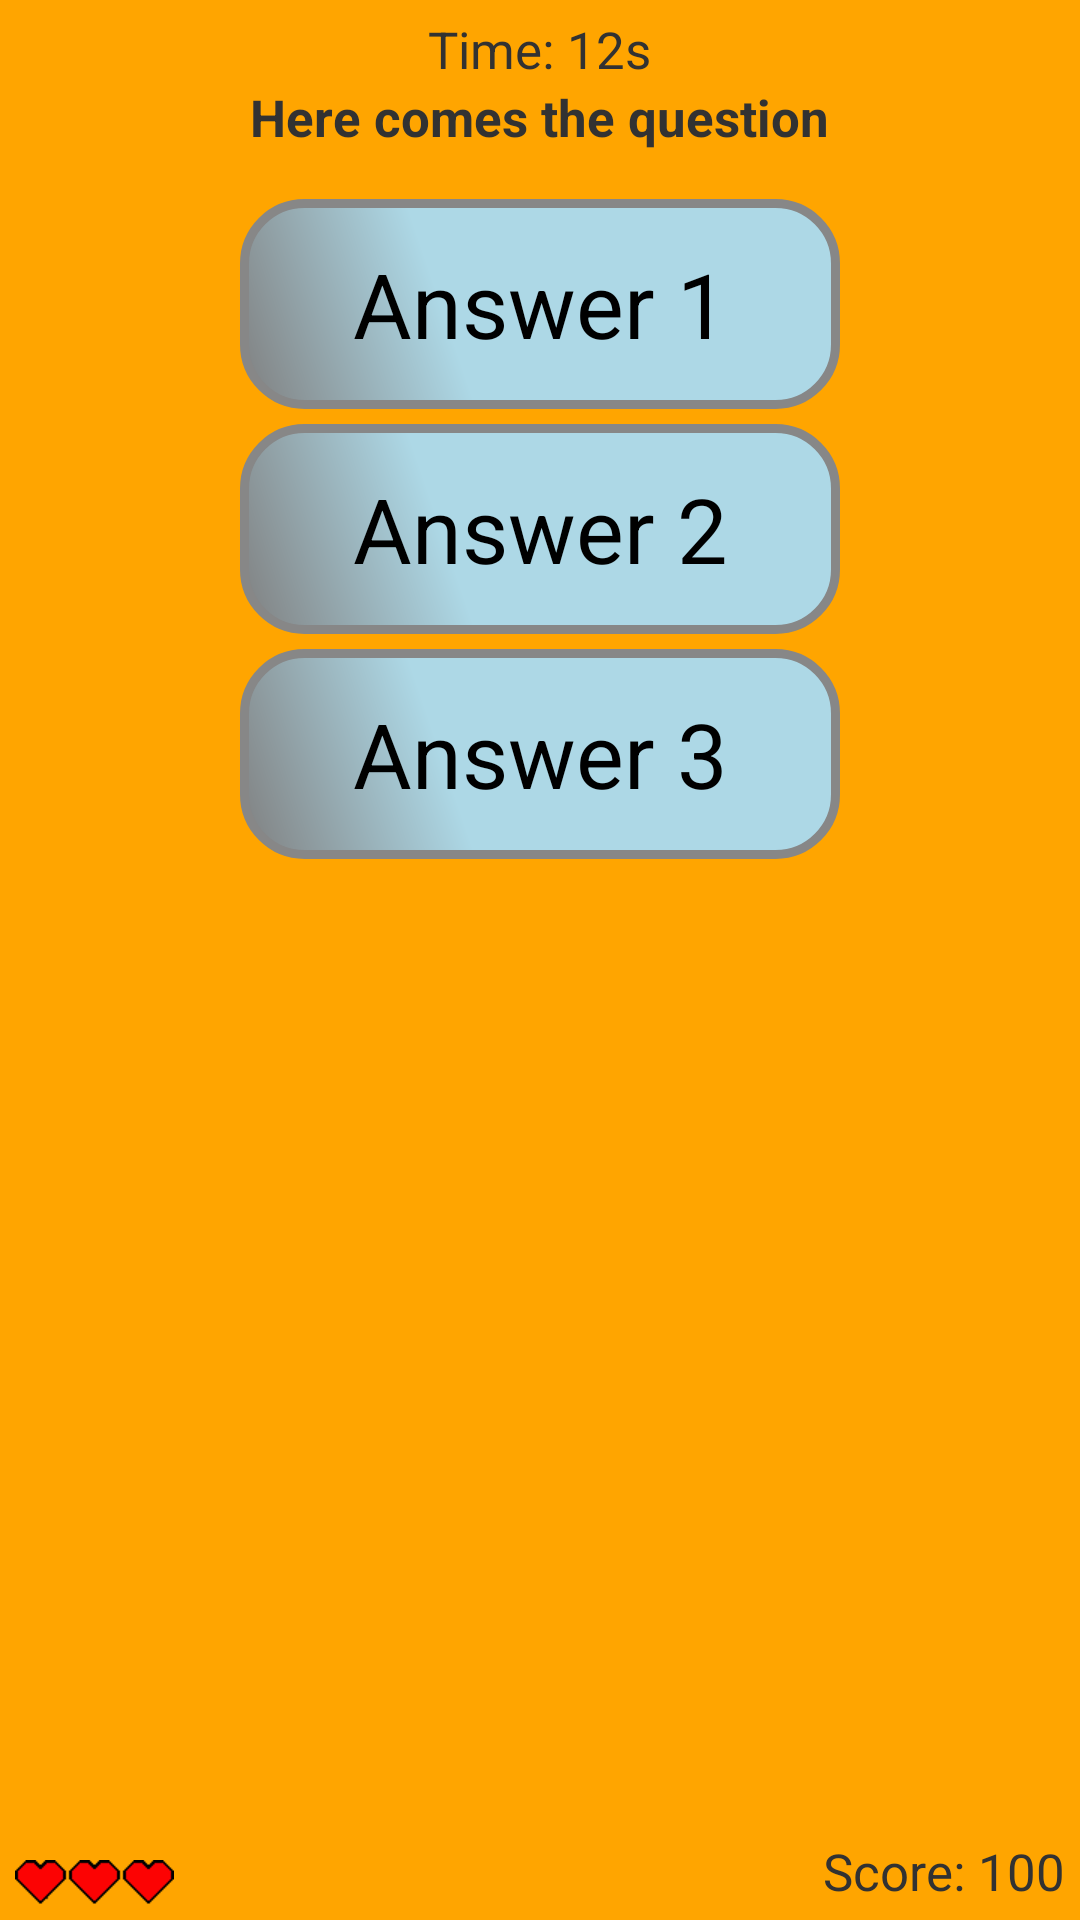

Icons on this 1080 x 1920 Android screen, each with its box as (x1, y1, x2, y2):
heart: (15, 1860, 174, 1904)
